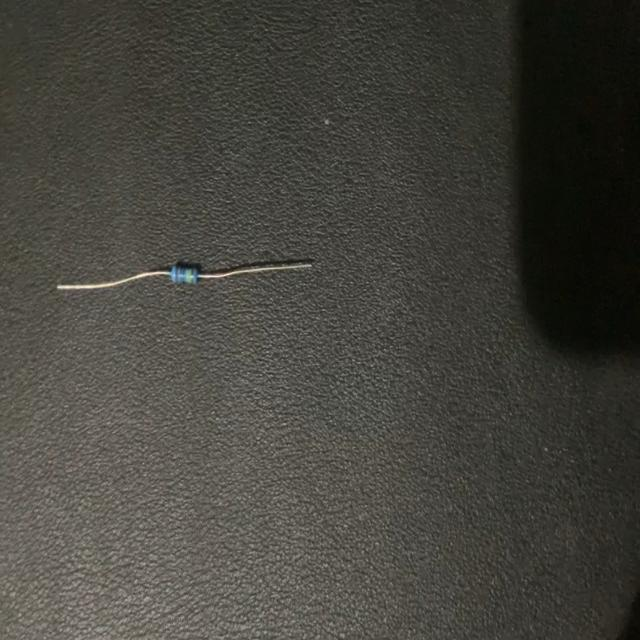resistor: (52, 256, 315, 293)
